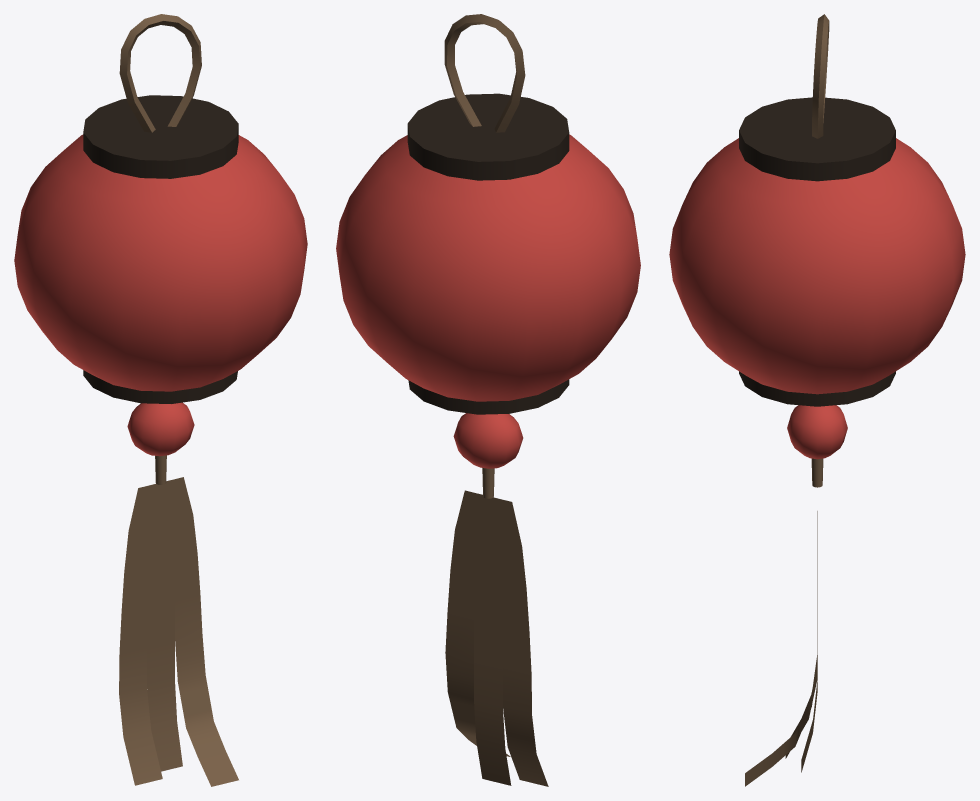
The model's file is LamparaBolaV2.fbx.
3 views of the same model, side by side, from view 1: azimuth 30°, elevation 25°; view 2: azimuth 150°, elevation 25°; view 3: azimuth 270°, elevation 25° (orthographic). The views are drawn at different scales.
Parts seen in each view (by area): view 1: Bola, Plane, Plane.002, Cuerditas, BolitaInf, CuerditaSuperior; view 2: Bola, Plane, Cuerditas, Plane.002, BolitaInf, CuerditaSuperior; view 3: Bola, BolitaInf, CuerditaSuperior, Plane.002.
Boxes of the visible parts, x1,y1,x2,y2 form: Bola: (14,95,307,403); Plane: (147,479,182,771); Plane.002: (175,477,238,786); Cuerditas: (119,486,162,785); BolitaInf: (127,402,194,456); CuerditaSuperior: (119,14,201,132); Bola: (336,93,640,414); Plane: (474,492,511,785); Cuerditas: (503,500,548,786); Plane.002: (445,490,510,756); BolitaInf: (453,413,523,468); CuerditaSuperior: (444,14,525,132); Bola: (669,97,965,406); BolitaInf: (787,405,847,459); CuerditaSuperior: (812,14,829,138); Plane.002: (745,511,817,786).
Bounding box in the file's own units: 170 × 473 × 170.
